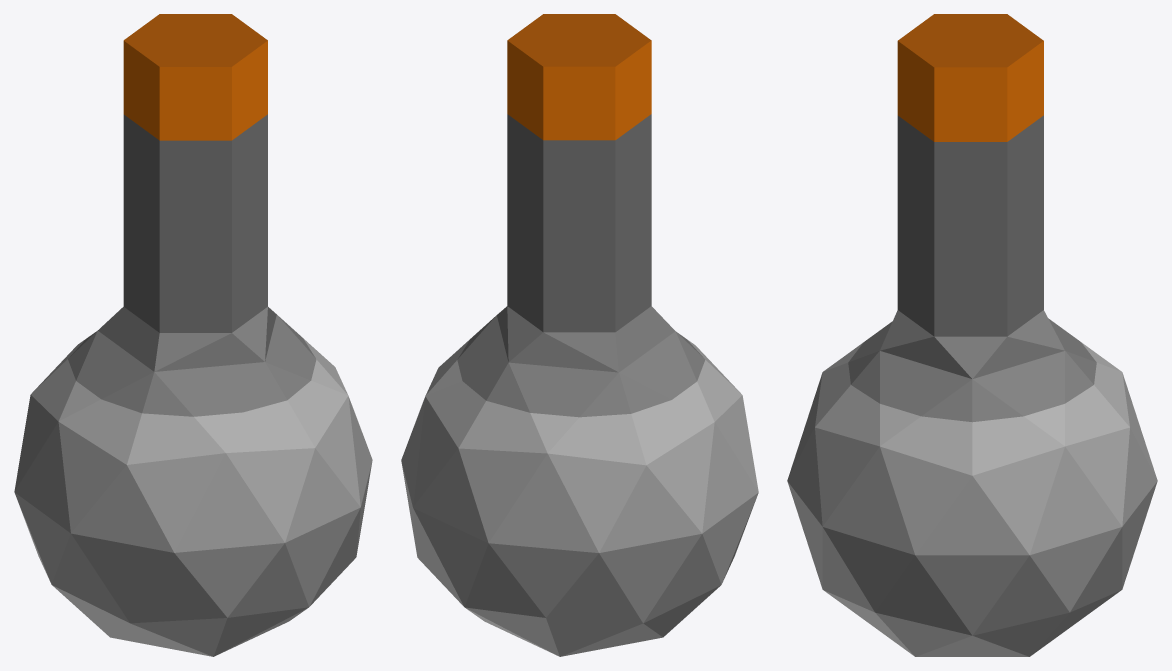
The model's file is potions_340x01.gltf.
3 renders of one model, left to right at view 1: azimuth 30°, elevation 25°; view 2: azimuth 150°, elevation 25°; view 3: azimuth 270°, elevation 25°, orthographic.
Visible parts, largest first — view 1: potions_340x01; view 2: potions_340x01; view 3: potions_340x01.
Part boxes in pixels (<box>): potions_340x01: <box>14,14,372,656</box>; potions_340x01: <box>401,14,758,656</box>; potions_340x01: <box>787,14,1157,656</box>.
Bounding box in the file's own units: 0.497 × 0.9473 × 0.5225.
Materials: 2 (2 with a texture image).
